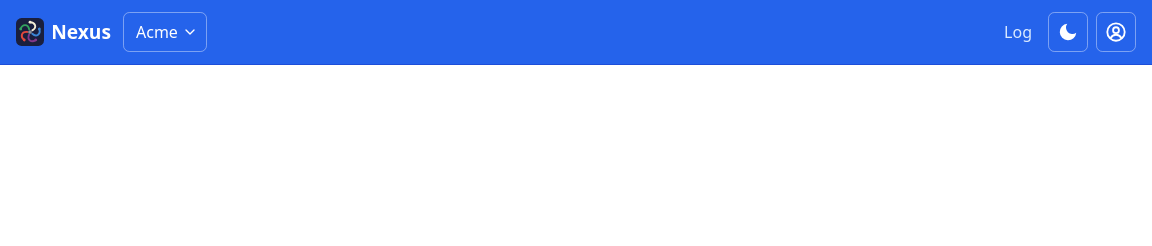
closes the account menu on a press outside it
Click the button named "Account menu for member@acme.test, Member".
click(1116, 32)  # box [1096,12,1136,52]
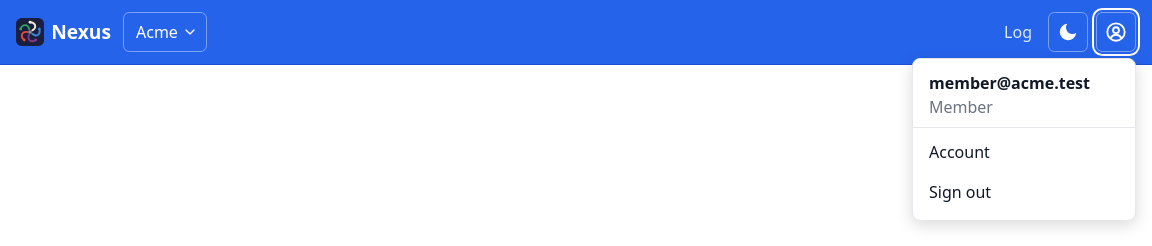
Click the element that starts with "Skip to content".
click(576, 32)  # box [0,0,1151,65]
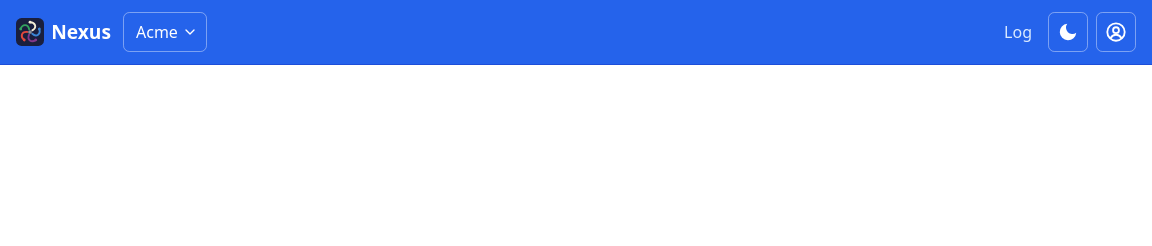
Expected: the menu is gone
